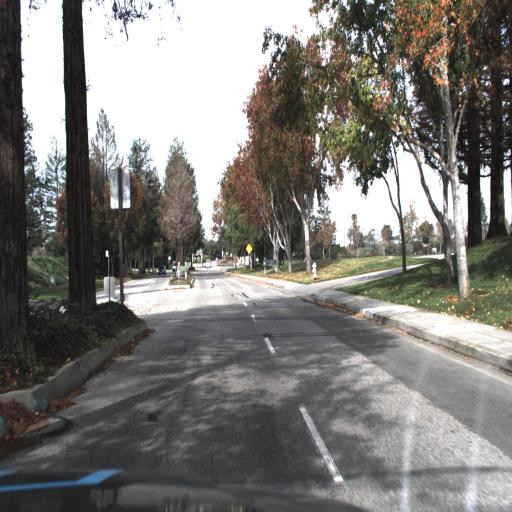car: (158, 266, 167, 276), (172, 262, 178, 272), (206, 259, 212, 268)
